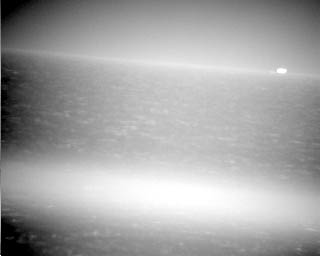Target: (277, 69, 286, 73)
